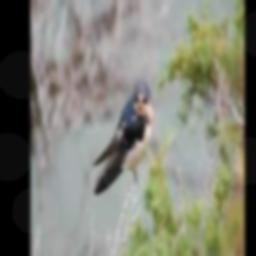Swallow: (92, 78, 152, 192)
